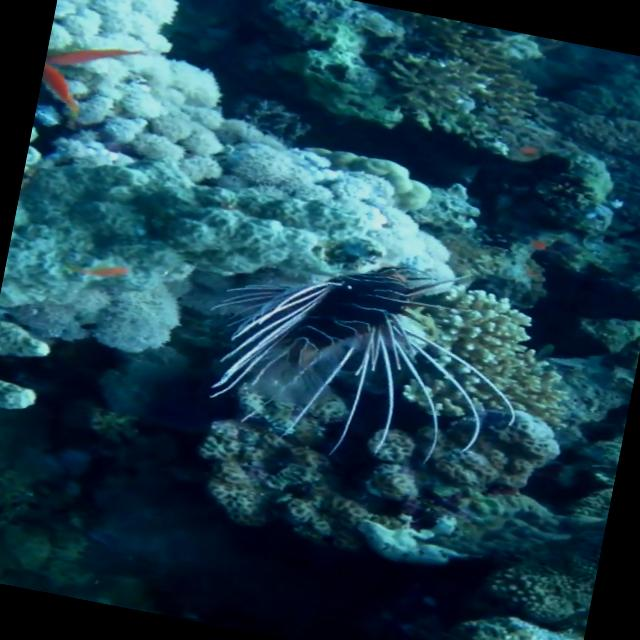Aslan Baligi: (184, 225, 544, 490)
